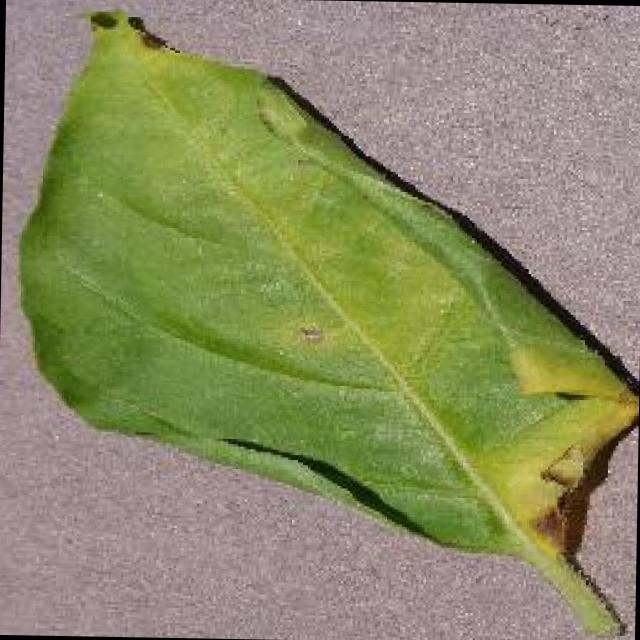Chilli_Bacterial_Spot: (5, 4, 640, 640), (493, 336, 638, 563), (501, 338, 635, 408), (535, 442, 588, 494), (526, 502, 572, 554), (284, 312, 336, 356), (122, 12, 173, 54), (82, 6, 120, 36), (292, 317, 326, 348)
